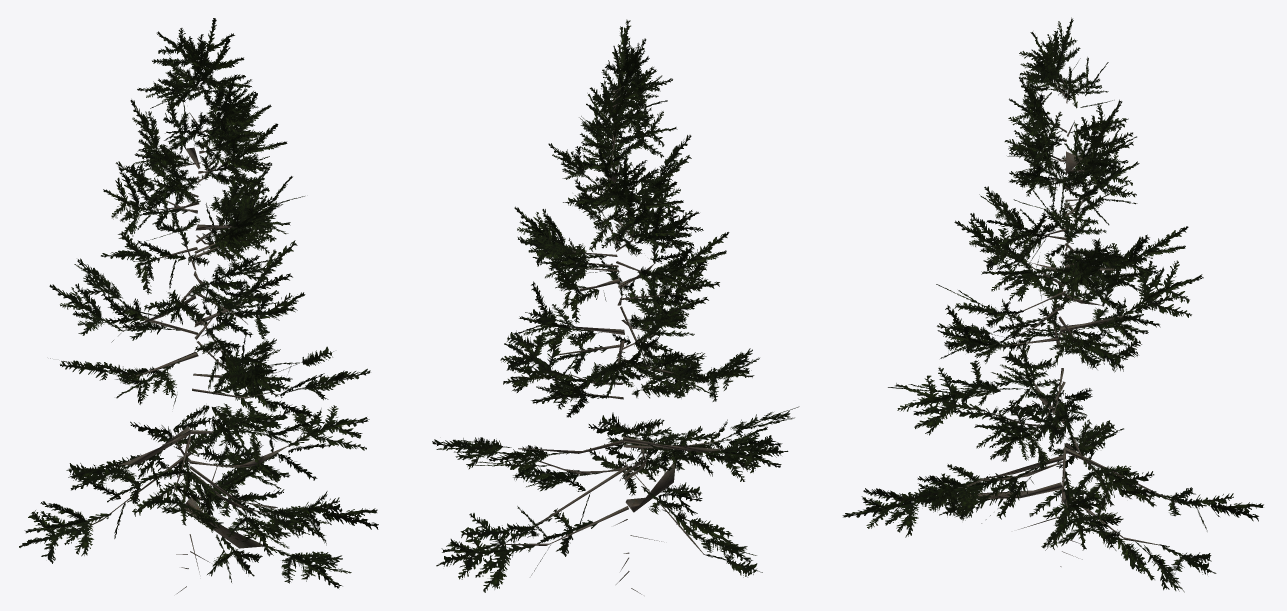
Rendered from fir_sapling_medium_b_LOD1.glb.
3 renders of one model, left to right at view 1: azimuth 30°, elevation 25°; view 2: azimuth 150°, elevation 25°; view 3: azimuth 270°, elevation 25°, orthographic. The views are drawn at different scales.
Visible parts, largest first — view 1: fir_sapling_medium_b_LOD1; view 2: fir_sapling_medium_b_LOD1; view 3: fir_sapling_medium_b_LOD1.
Part boxes in pixels (x1,y1,x2,y2): fir_sapling_medium_b_LOD1: (19,18,378,593); fir_sapling_medium_b_LOD1: (432,19,799,594); fir_sapling_medium_b_LOD1: (842,17,1263,592).
Size of the model in its own units: 4.97 by 7.76 by 5.47.
3 materials, 3 textured.
